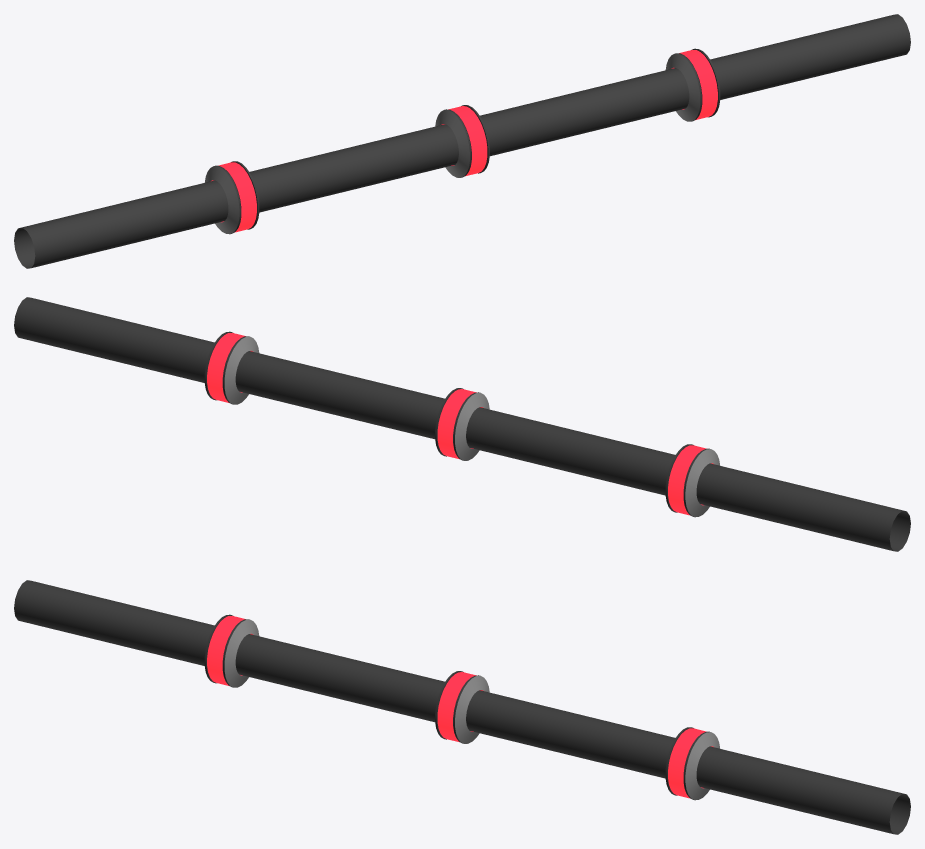
The model's file is Red_Cable_A_4.fbx.
3 renders of one model, top to bottom at view 1: azimuth 30°, elevation 25°; view 2: azimuth 150°, elevation 25°; view 3: azimuth 330°, elevation 25°, orthographic.
Parts seen in each view (by area): view 1: Red_Cable_4.003; view 2: Red_Cable_4.003; view 3: Red_Cable_4.003.
Boxes of the visible parts, x1=… form: Red_Cable_4.003: x1=14, y1=14, x2=910, y2=268; Red_Cable_4.003: x1=14, y1=297, x2=910, y2=551; Red_Cable_4.003: x1=14, y1=580, x2=910, y2=834.
Bounding box in the file's own units: 3.8 × 0.263 × 0.2624.
